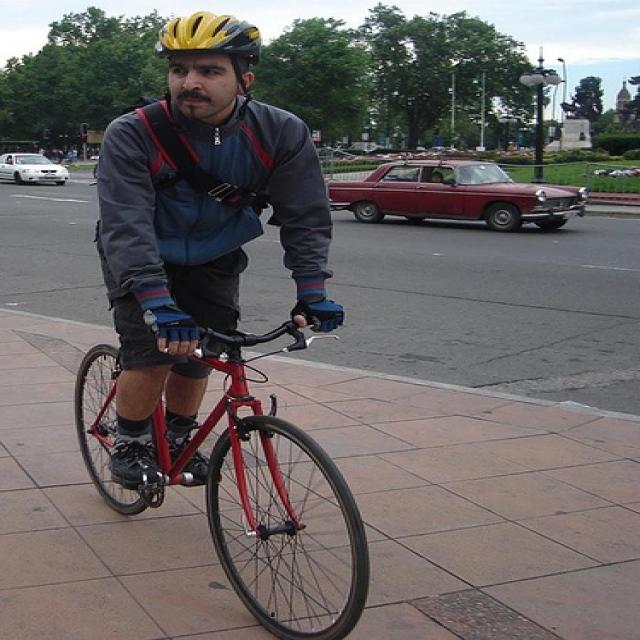bicycle: (72, 307, 370, 639)
car: (326, 159, 589, 234), (0, 153, 72, 187)
